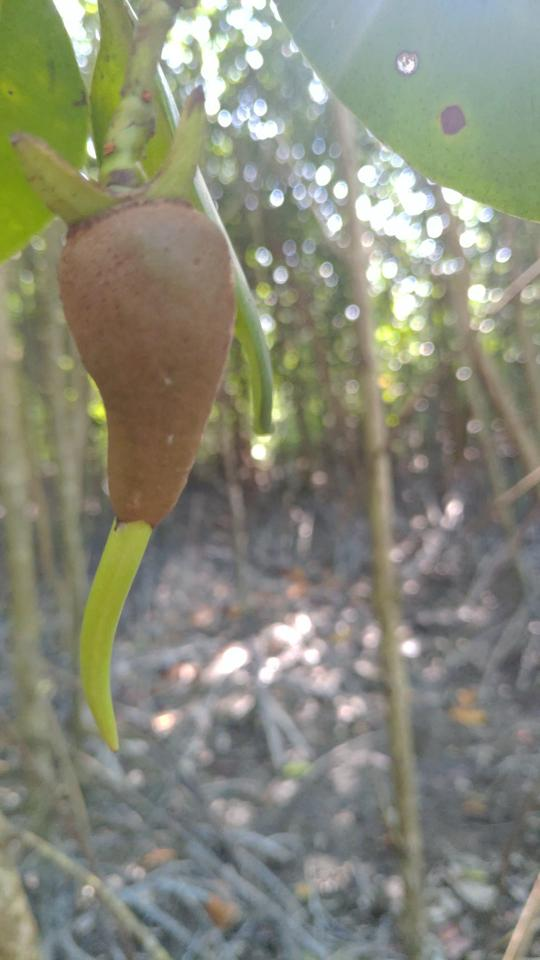mentah: (9, 62, 257, 764)
